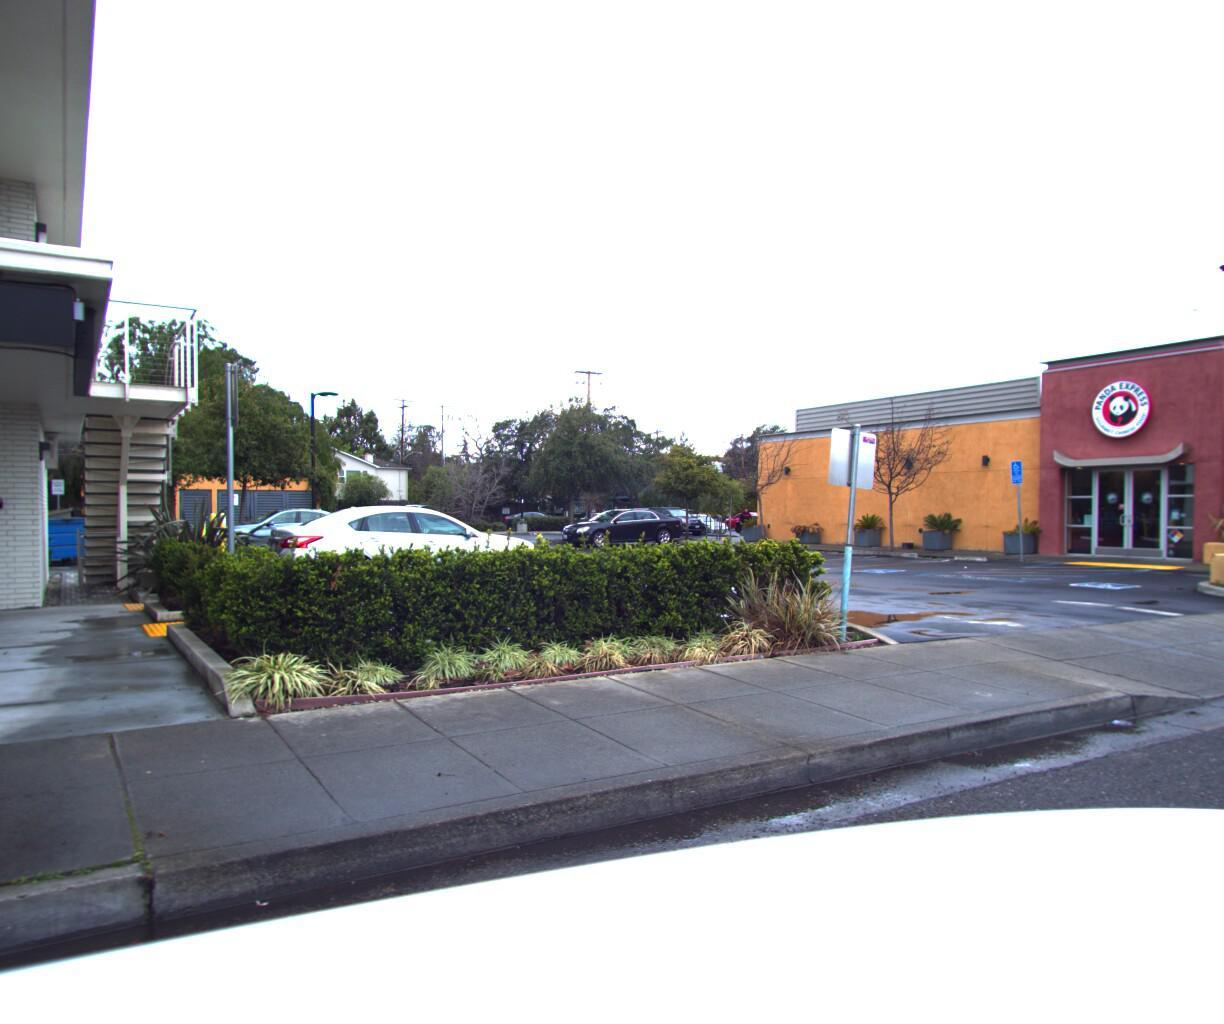car: (670, 515, 729, 538)
truck: (538, 500, 585, 527)
